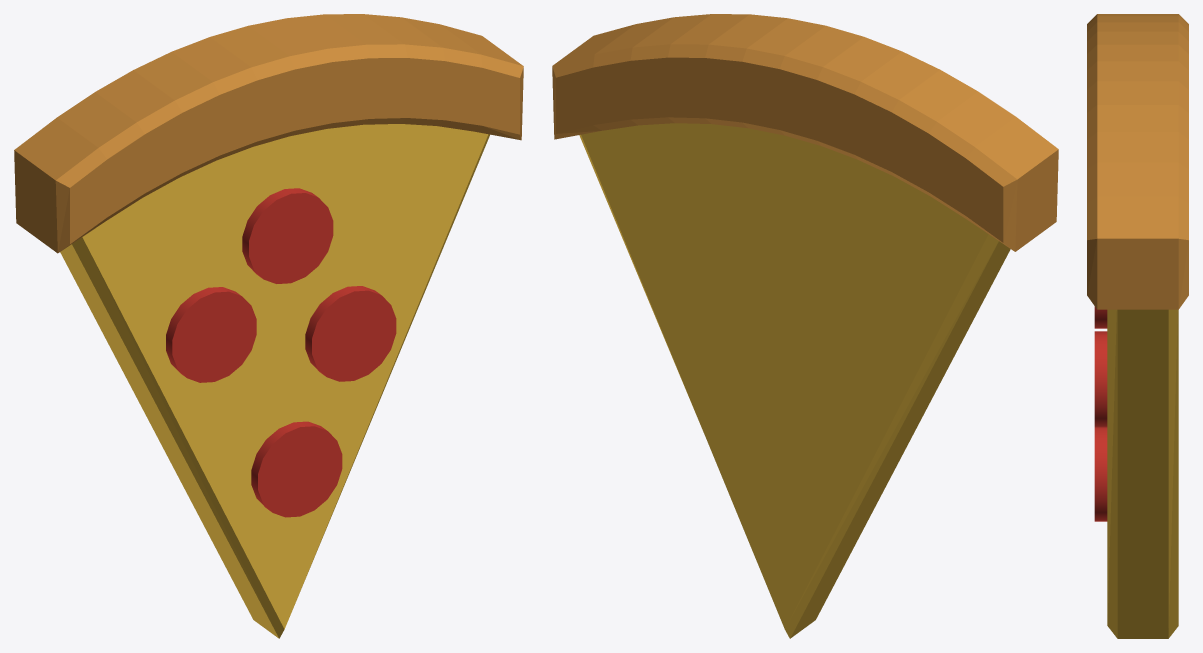
Rendered from pizza.glb.
3 views of the same model, side by side, from view 1: azimuth 30°, elevation 25°; view 2: azimuth 150°, elevation 25°; view 3: azimuth 270°, elevation 25° (orthographic). The views are drawn at different scales.
Visible parts, largest first — view 1: pizza; view 2: pizza; view 3: pizza.
Boxes of the visible parts, box(x1,y1,x2,y2) form: pizza: box(14, 14, 523, 638); pizza: box(552, 14, 1058, 638); pizza: box(1087, 14, 1188, 638).
Bounding box in the file's own units: 0.8298 × 1 × 0.1596.
